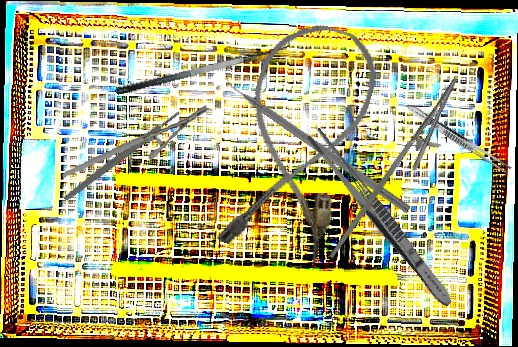Cannula: (209, 11, 388, 272)
Chopper: (215, 63, 419, 214)
Dressing Forceps: (303, 126, 459, 311), (403, 101, 514, 176)
Needle Holder: (328, 64, 473, 279), (56, 104, 215, 178)
Scalpel Handle: (62, 109, 182, 203)
Spatula Surgical: (112, 32, 293, 97)
